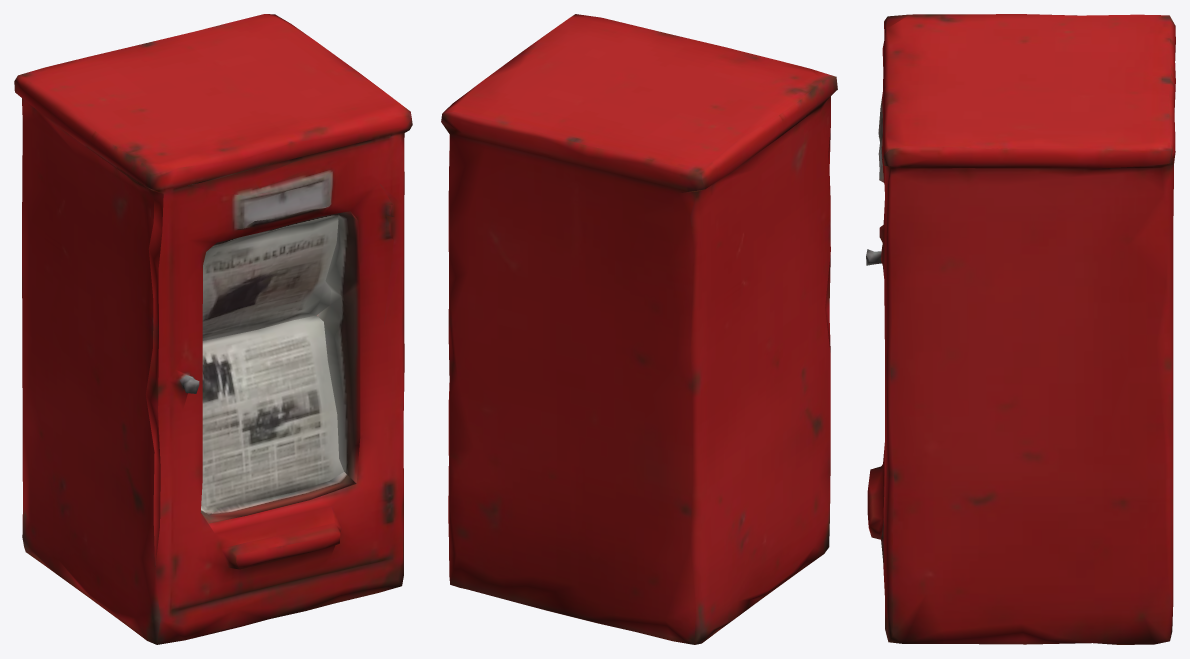
The model's file is street-newsbox.glb.
The picture shows the model from 3 angles, left to right: view 1: azimuth 30°, elevation 25°; view 2: azimuth 150°, elevation 25°; view 3: azimuth 270°, elevation 25°; orthographic projection. The views are drawn at different scales.
Visible parts, largest first — view 1: Mesh_0.010; view 2: Mesh_0.010; view 3: Mesh_0.010.
Part boxes in pixels (x1,y1,x2,y2): Mesh_0.010: [14, 14, 412, 644]; Mesh_0.010: [441, 14, 837, 644]; Mesh_0.010: [866, 14, 1175, 644].
Bounding box in the file's own units: 0.6409 × 1.1 × 0.6139.
Materials: 1 (1 with a texture image).
